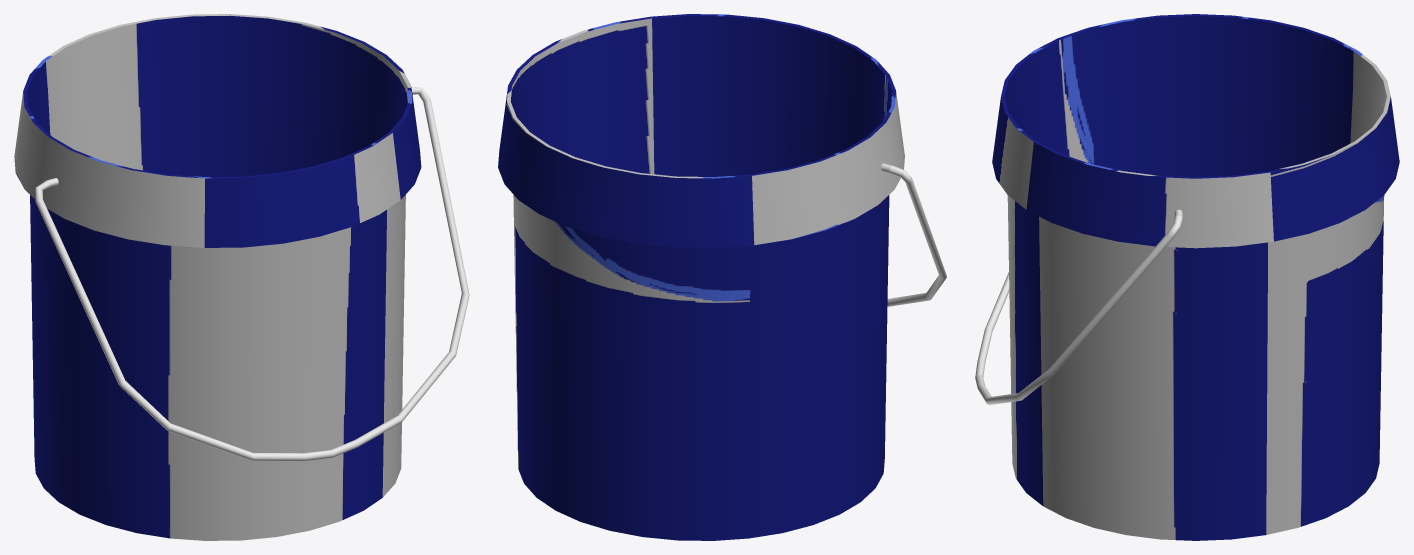
File: bucket.fbx
3 renders of one model, left to right at view 1: azimuth 30°, elevation 25°; view 2: azimuth 150°, elevation 25°; view 3: azimuth 270°, elevation 25°, orthographic.
Parts seen in each view (by area): view 1: Cylinder.002, Cylinder.004; view 2: Cylinder.002, Cylinder.004; view 3: Cylinder.002, Cylinder.004.
Part boxes in pixels (box(x1,y1,x2,y2)): Cylinder.002: box(14, 14, 421, 540); Cylinder.004: box(35, 87, 469, 460); Cylinder.002: box(498, 14, 904, 540); Cylinder.004: box(881, 163, 946, 306); Cylinder.002: box(992, 14, 1399, 540); Cylinder.004: box(975, 209, 1182, 404).
Size of the model in its own units: 224 by 199 by 208.
Materials: 1 (1 with a texture image).
